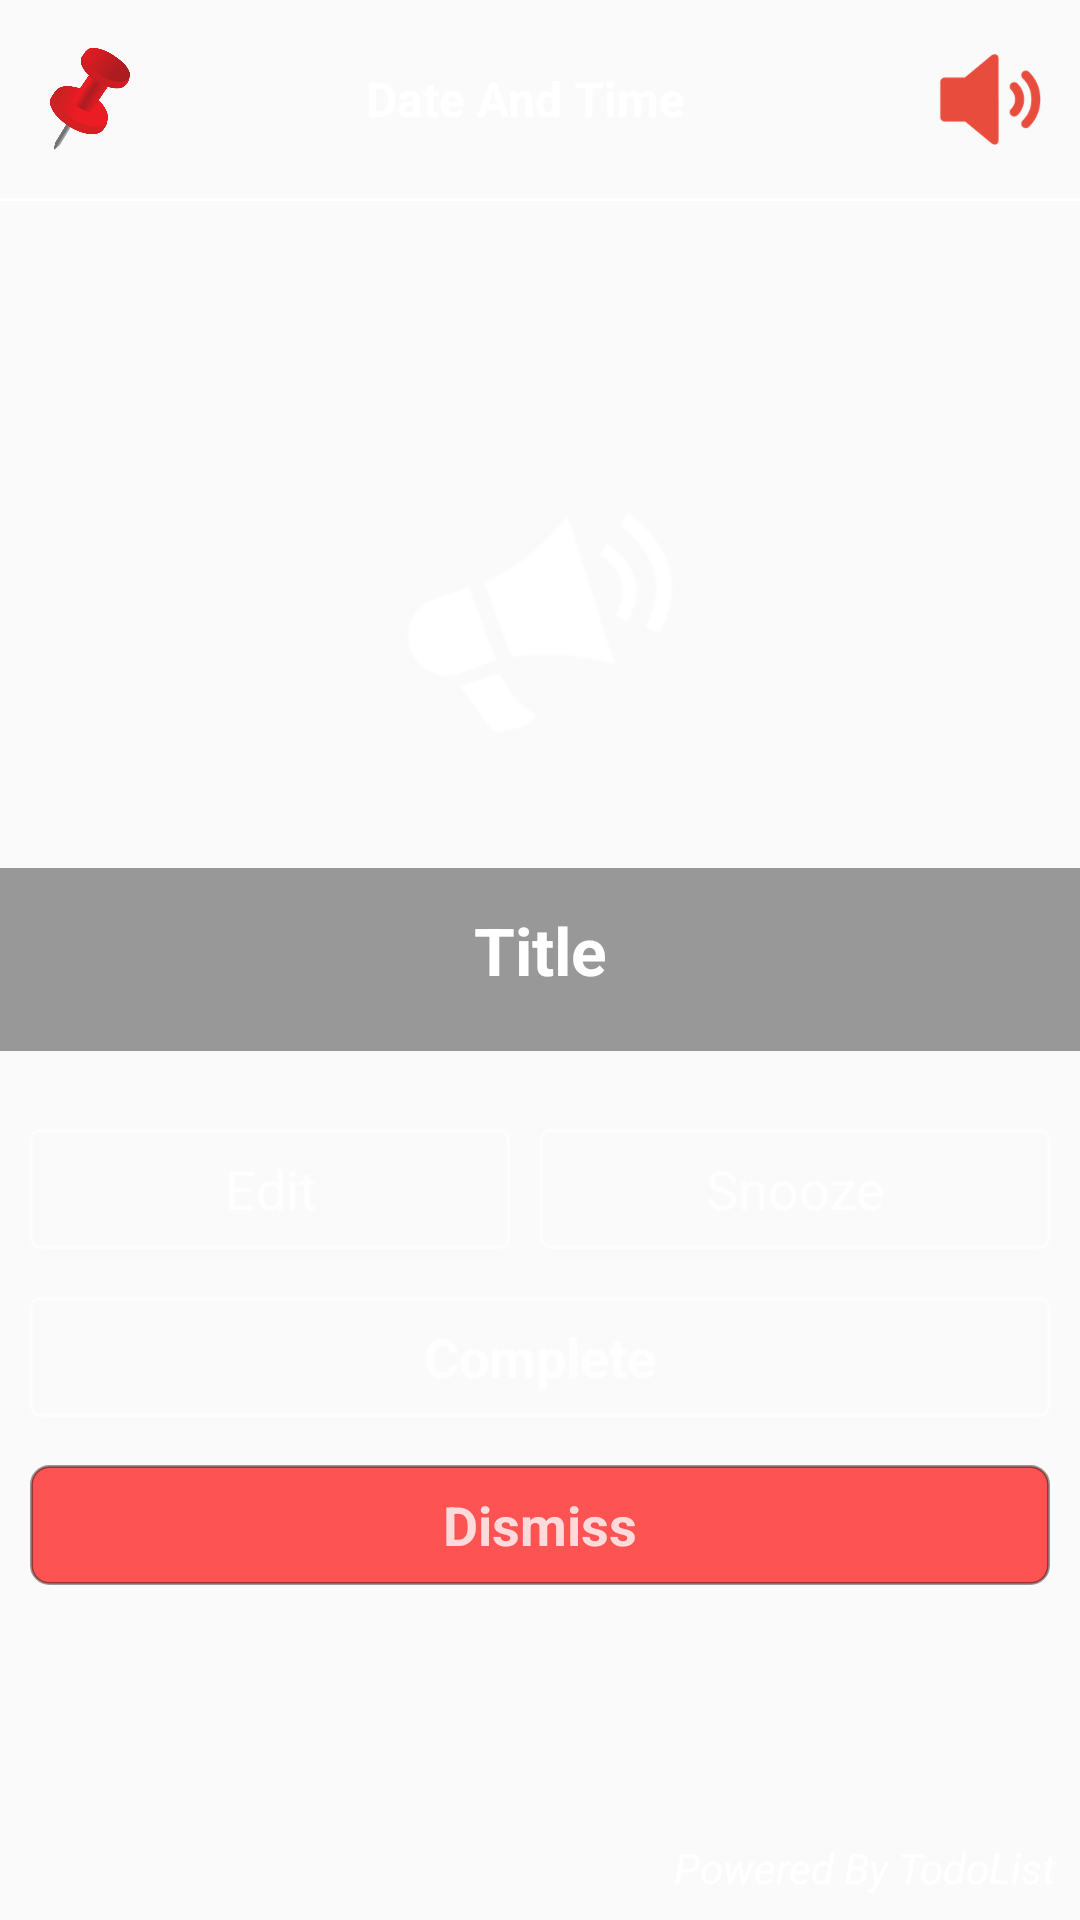

Icons on this 1080×1920 Android screen, each with its box as (x1, y1, x2, y2):
pin: (50, 48, 130, 150)
